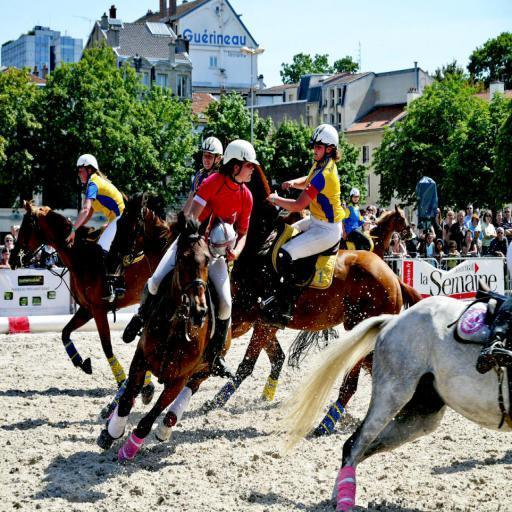horse: (232, 160, 425, 440), (264, 295, 512, 512), (98, 211, 234, 466), (6, 196, 160, 392), (106, 195, 172, 279), (339, 203, 417, 261)
